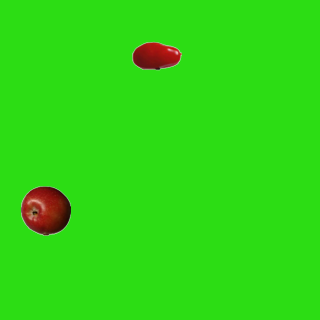Apple Braeburn: (20, 185, 70, 235)
Tomato 2: (131, 30, 181, 80)
